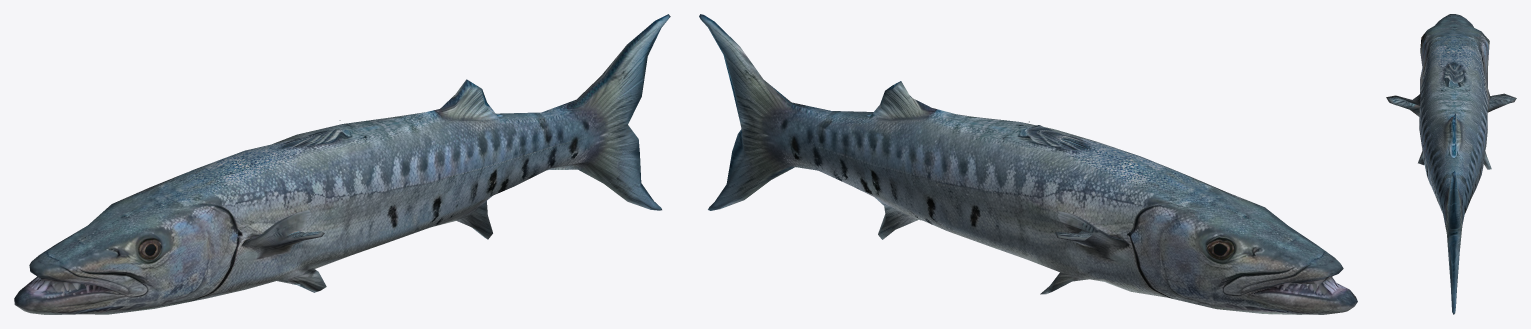
Rendered from barracudal.glb.
3 renders of one model, left to right at view 1: azimuth 30°, elevation 25°; view 2: azimuth 150°, elevation 25°; view 3: azimuth 270°, elevation 25°, orthographic. The views are drawn at different scales.
Visible parts, largest first — view 1: tripo_node_22ffa639; view 2: tripo_node_22ffa639; view 3: tripo_node_22ffa639.
Part boxes in pixels (x1=…): tripo_node_22ffa639: x1=14, y1=14, x2=670, y2=314; tripo_node_22ffa639: x1=699, y1=14, x2=1357, y2=314; tripo_node_22ffa639: x1=1386, y1=14, x2=1516, y2=314.
Bounding box in the file's own units: 97.86 × 27.72 × 22.8.
Materials: 1 (1 with a texture image).
